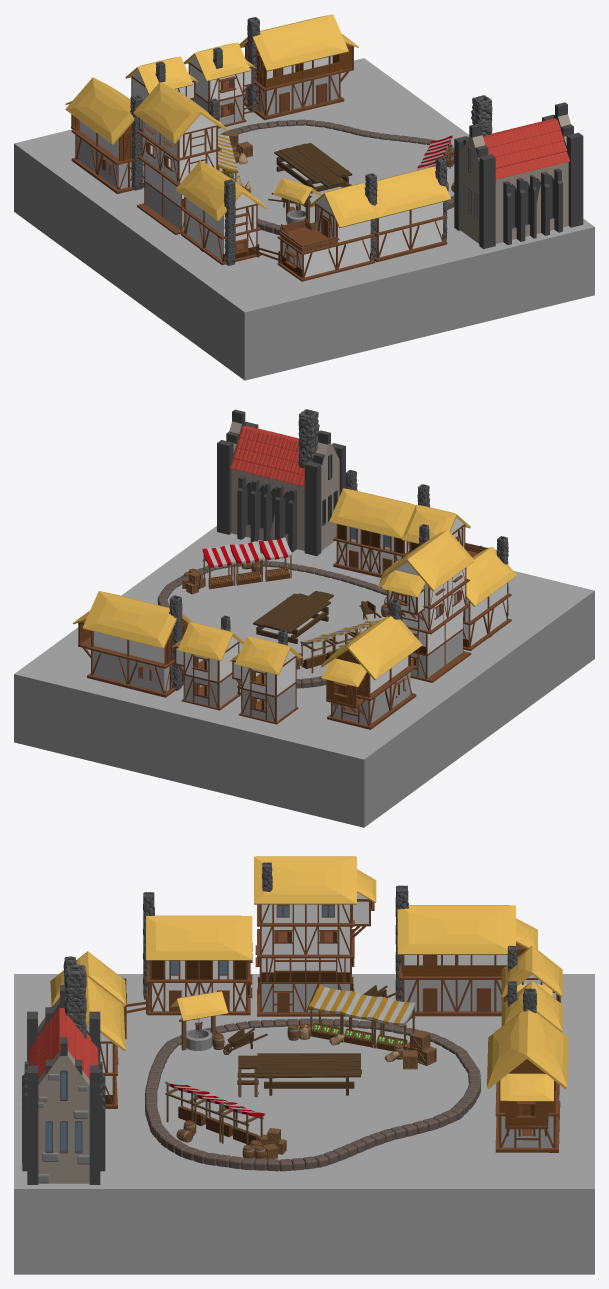
Rendered from concept_market.fbx.
The picture shows the model from 3 angles, top to bottom: view 1: azimuth 30°, elevation 25°; view 2: azimuth 150°, elevation 25°; view 3: azimuth 270°, elevation 25°; orthographic projection. The views are drawn at different scales.
Parts seen in each view (by area): view 1: Plane, Cube.195, Plane.006, Plane.011, Plane.003, Plane.010, Cube.115, Cube.054, Cube.026, Cube.094, Plane.012, Cube.046 (+24 smaller); view 2: Plane, Cube.195, Plane.011, Plane.006, Plane.010, Plane.003, Cube.046, Plane.012, Cube.184, Cube.062, Plane.004, Plane.005 (+26 smaller); view 3: Plane, Cube.195, Cube.184, Plane.011, Plane.006, Plane.010, Plane.012, Cube.054, Cube.055, Cube.101, Cube.062, Plane.004 (+26 smaller).
Part boxes in pixels (x1,y1,x2,y2): Plane: (14,58,594,380); Cube.195: (454,102,583,248); Plane.006: (239,14,358,71); Plane.011: (65,77,134,144); Plane.003: (365,166,450,217); Plane.010: (133,82,227,143); Cube.115: (283,196,370,277); Cube.054: (142,114,216,182); Cube.026: (376,202,442,257); Cube.094: (277,203,375,281); Plane.012: (175,160,266,220); Cube.046: (243,44,344,120); Plane: (14,526,594,827); Cube.195: (217,409,345,555); Plane.011: (321,616,422,687); Plane.006: (73,591,192,648); Plane.010: (380,530,474,597); Plane.003: (329,488,415,538); Cube.046: (87,622,187,697); Plane.012: (466,546,516,606); Cube.184: (157,560,386,688); Cube.062: (327,664,416,729); Plane.004: (229,636,302,675); Plane.005: (172,622,243,661); Plane: (14,974,594,1274); Cube.195: (22,984,105,1184); Cube.184: (145,1018,480,1171); Plane.011: (397,905,537,954); Plane.006: (487,1010,568,1101); Plane.010: (254,856,376,904); Plane.012: (146,915,252,960); Cube.054: (261,904,349,954); Cube.055: (257,904,354,958); Cube.101: (146,943,252,1015); Cube.062: (399,955,501,1016); Plane.004: (501,945,562,997).
Size of the model in its own units: 4000 by 2189 by 4567.
